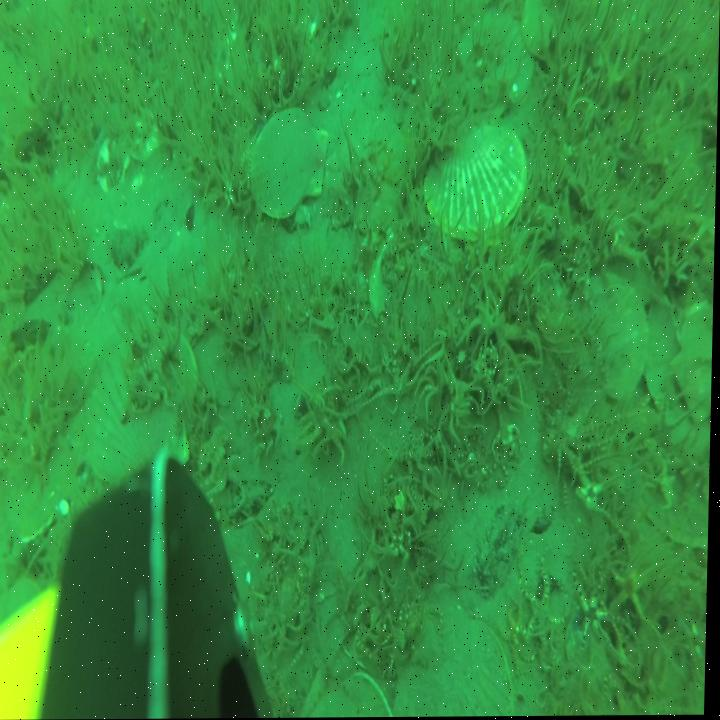scallop: (84, 337, 204, 488), (423, 126, 529, 241), (574, 267, 651, 397), (249, 106, 332, 220), (522, 0, 618, 57)
